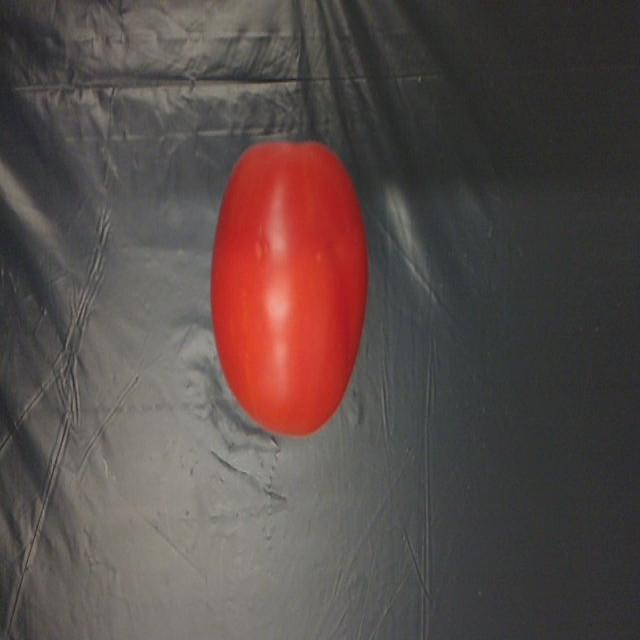kirmizi: (184, 124, 373, 436)
